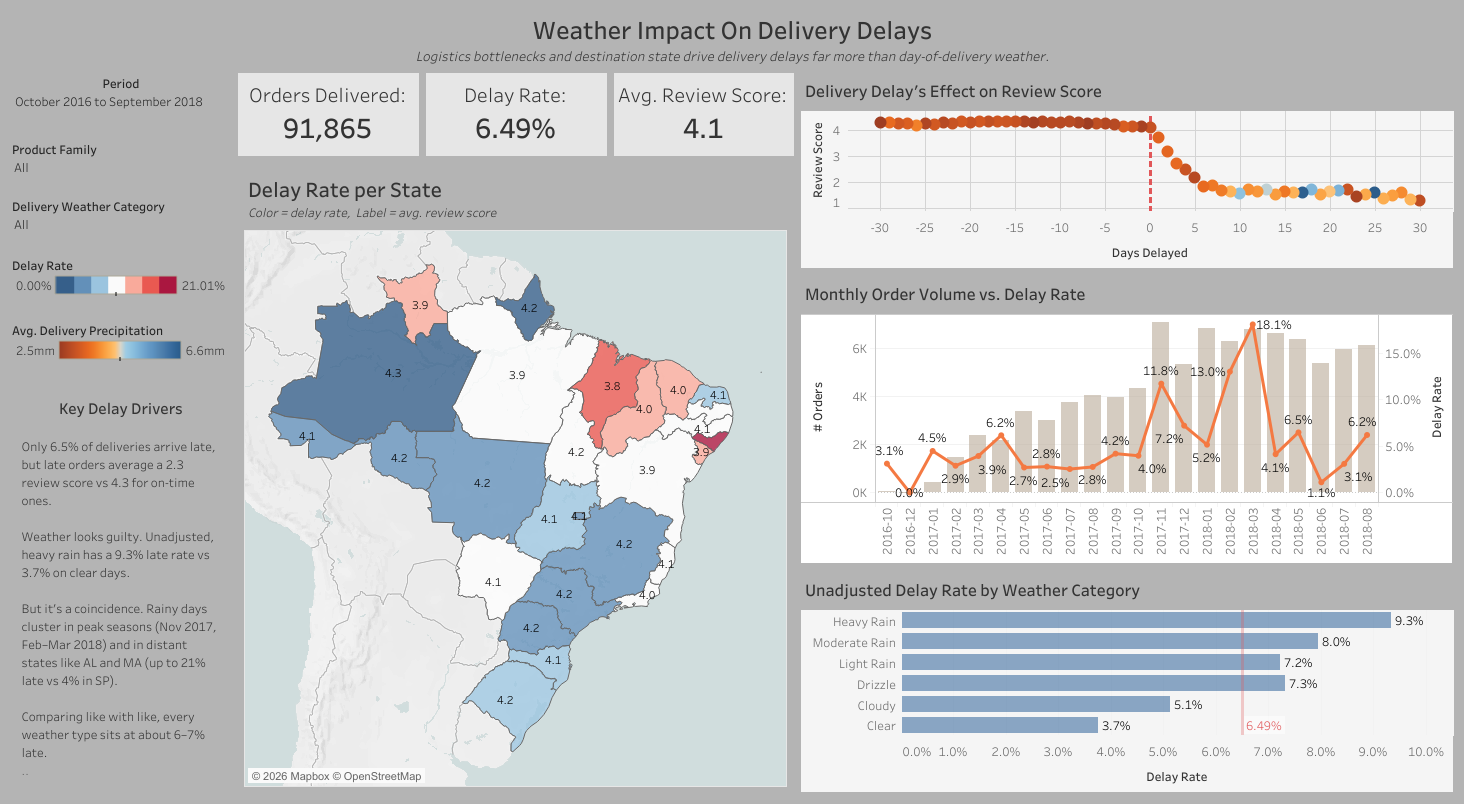

The dashboard page shown, as its layout file describes it:
{"tool":"tableau","page":{"name":"Dashboard","canvas":[1000,1000],"units":"permille","ordinal":0},"visuals":[{"type":"title","box":[4.3,10.1,991.4,77.3]},{"type":"filter","title":"Sheet 6","param":"[federated.1ype3xz01j9fx41bfi1co094o0g3].[tmn:delivery_datetime:qk]","box":[4.3,87.5,154.3,74.1]},{"type":"worksheet","title":"Sheet 8","mark":"Automatic","box":[158.7,87.5,128.8,111.5]},{"type":"worksheet","title":"Sheet 9","mark":"Automatic","box":[287.6,87.5,128.8,111.5]},{"type":"worksheet","title":"Sheet 10","mark":"Automatic","box":[416.4,87.5,128.3,111.5]},{"type":"worksheet","title":"Sheet 1","mark":"Circle","rows":["review_score"],"cols":["Calculation_0014903644672000"],"box":[544.4,87.5,451.3,266.2]},{"type":"filter","title":"Sheet 6","param":"[federated.1ype3xz01j9fx41bfi1co094o0g3].[none:product_family:nk]","box":[4.3,161.6,154.3,71]},{"type":"worksheet","title":"Sheet 6","mark":"Multipolygon","box":[158.6,198.9,385.8,790.9]},{"type":"filter","title":"Sheet 6","param":"[federated.1ype3xz01j9fx41bfi1co094o0g3].[none:delivery_weather_category:nk]","box":[4.3,232.6,154.3,71]},{"type":"legend","title":"Sheet 6","param":"[federated.1ype3xz01j9fx41bfi1co094o0g3].[avg:is_delayed:qk]","box":[4.3,303.6,154.3,82.4]},{"type":"worksheet","title":"Sheet 2","mark":"Automatic","rows":["delivery_weather_category"],"cols":["is_delayed"],"box":[544.4,353.6,451.3,296.6]},{"type":"legend","title":"Sheet 1","param":"[federated.1ype3xz01j9fx41bfi1co094o0g3].[avg:delivery_precipitation:qk]","box":[4.3,385.9,154.3,74.1]},{"type":"text","box":[4.3,460.1,154.3,529.8]},{"type":"worksheet","title":"Sheet 11","mark":"Line","rows":["Calculation_0014494153691144","Calculation_0014494201266192"],"cols":["Calculation_0014494368149647"],"box":[544.4,650.2,451.3,339.7]}]}

Visuals, with their boxes on the dashboard's canvas, which has no fixed pixel size, in thousandths of its width and height (x1, y1, x2, y2). These are canvas units, not pixel positions in the 1464x804 screenshot, which may show the page scaled, cropped or inside an application window:
title: (4, 10, 996, 87)
"Sheet 6" filter: (4, 88, 159, 162)
"Sheet 8" worksheet: (159, 88, 288, 199)
"Sheet 9" worksheet: (288, 88, 416, 199)
"Sheet 10" worksheet: (416, 88, 545, 199)
"Sheet 1" worksheet (Circle marks): (544, 88, 996, 354)
"Sheet 6" filter: (4, 162, 159, 233)
"Sheet 6" worksheet (Multipolygon marks): (159, 199, 544, 990)
"Sheet 6" filter: (4, 233, 159, 304)
"Sheet 6" legend: (4, 304, 159, 386)
"Sheet 2" worksheet: (544, 354, 996, 650)
"Sheet 1" legend: (4, 386, 159, 460)
text: (4, 460, 159, 990)
"Sheet 11" worksheet (Line marks): (544, 650, 996, 990)
